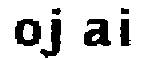a: (82, 17, 111, 50)
i: (120, 4, 137, 47)
j: (42, 8, 70, 58)
o: (12, 18, 42, 46)
